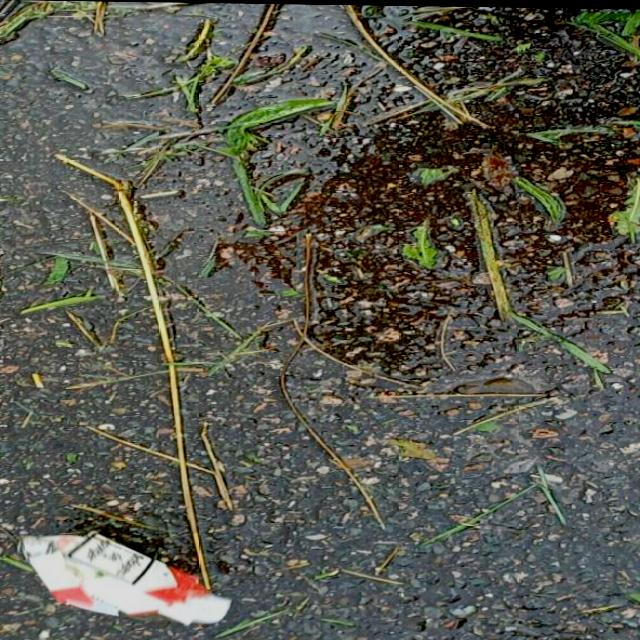Paper: (17, 529, 239, 628)
